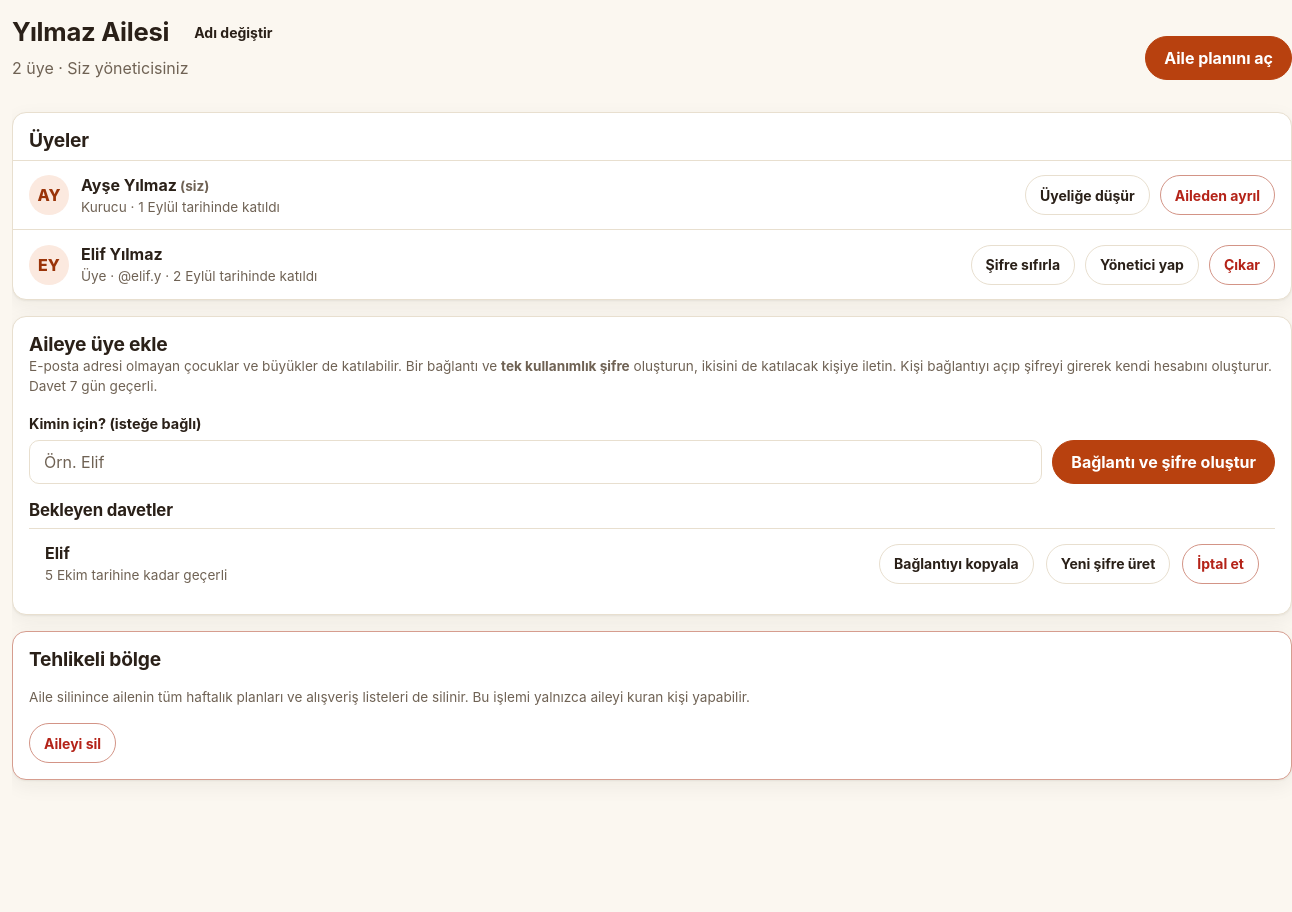
Test: FamilyDetailPage: şifre sıfırlama › sunucu reddederse Türkçe mesajı gösterir
The image size is (1292, 912).
Step 1. Click the button "Şifre sıfırla" → (1023, 265), box [970, 245, 1075, 285]
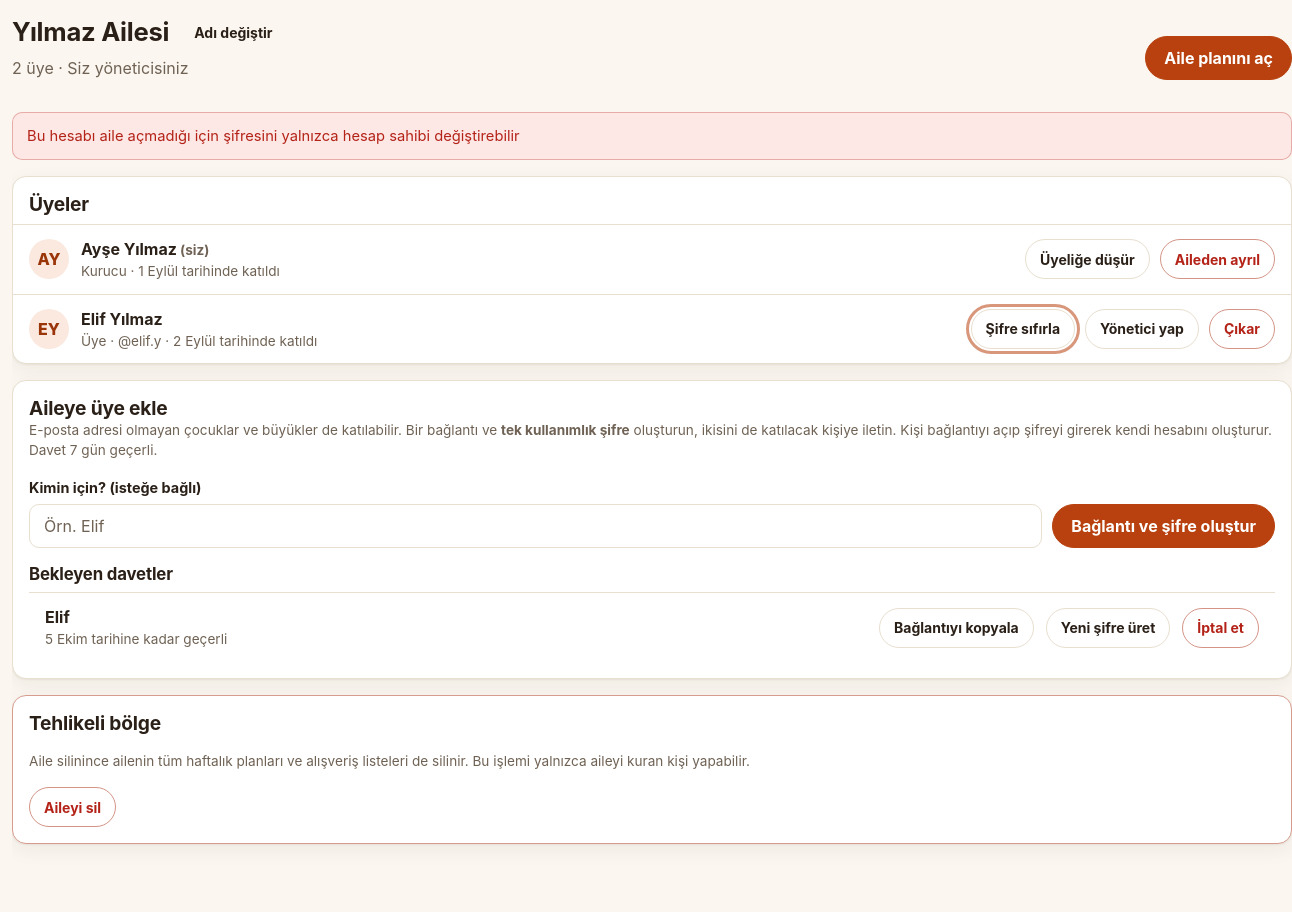
Result: the message shows "yalnızca hesap sahibi değiştirebilir" at [27, 127, 520, 145]
